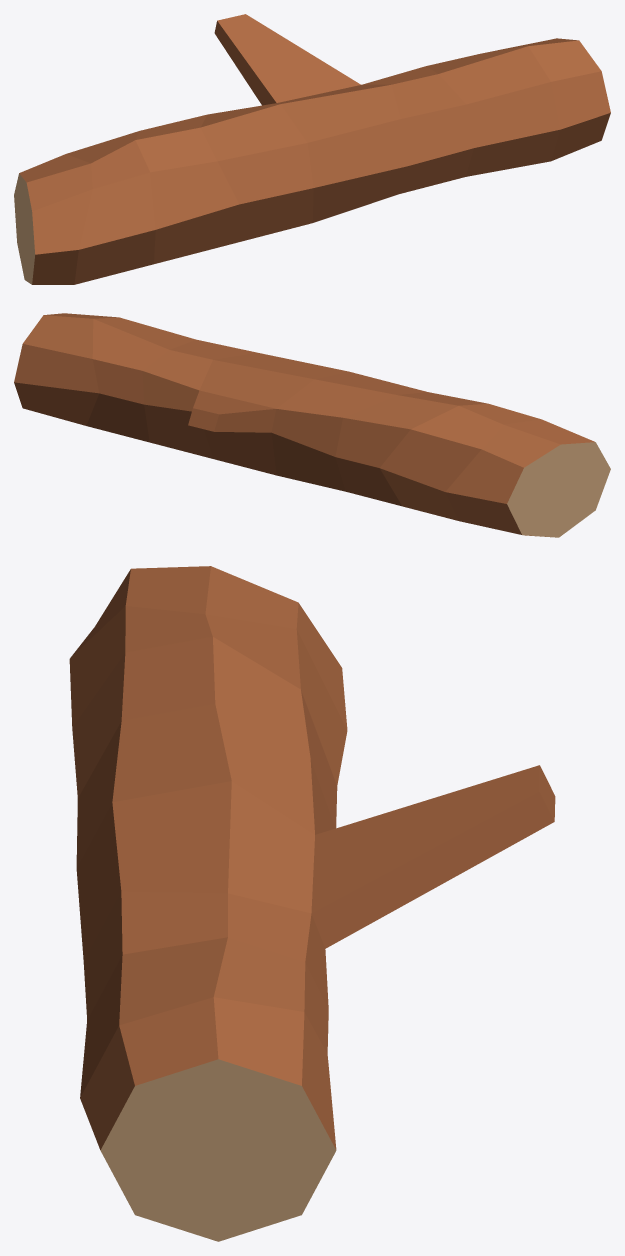
The model's file is Log.fbx.
3 views of the same model, one above another, from view 1: azimuth 30°, elevation 25°; view 2: azimuth 150°, elevation 25°; view 3: azimuth 270°, elevation 25° (orthographic). The views are drawn at different scales.
Parts seen in each view (by area): view 1: Log; view 2: Log; view 3: Log.
Boxes of the visible parts, x1,y1,x2,y2 form: Log: (14,14,610,284); Log: (14,313,610,537); Log: (69,566,555,1241).
Size of the model in its own units: 466 by 105 by 183.
